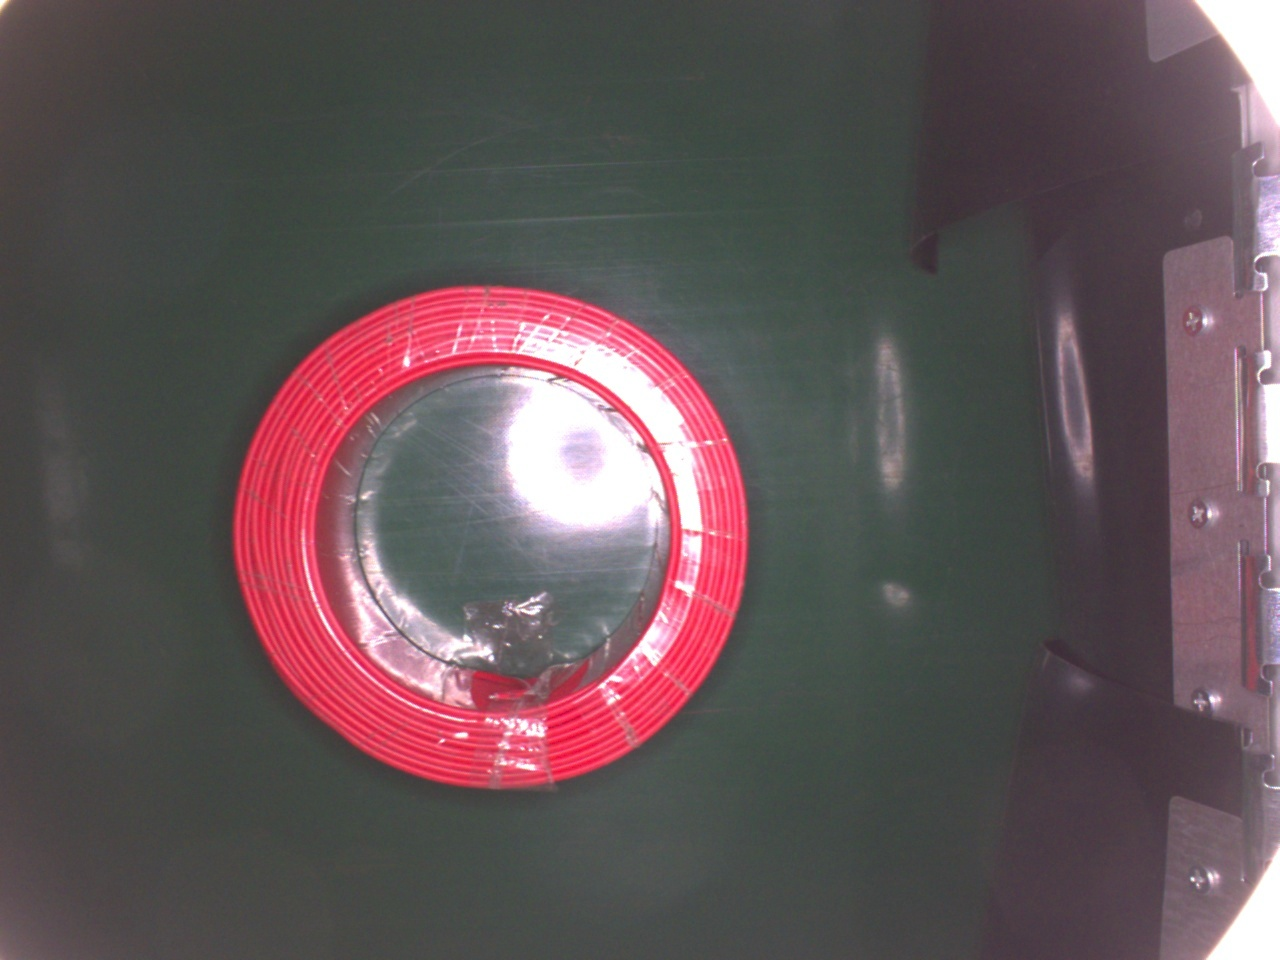red: (234, 282, 745, 794)
